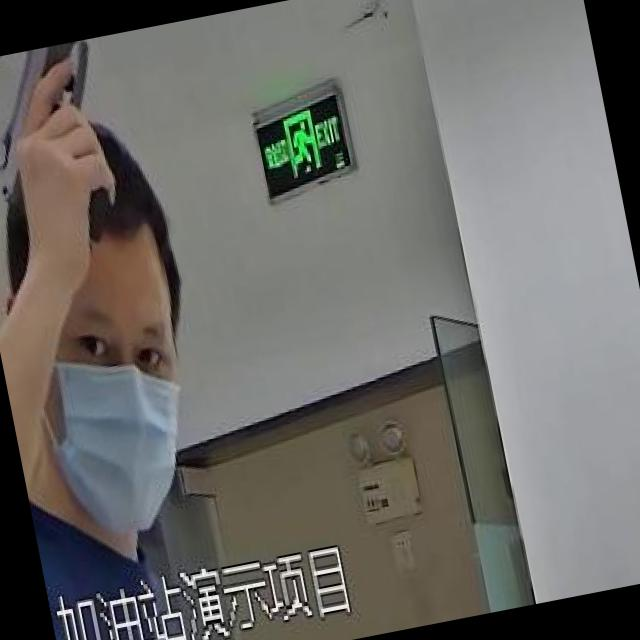Guns: (0, 24, 203, 265)
